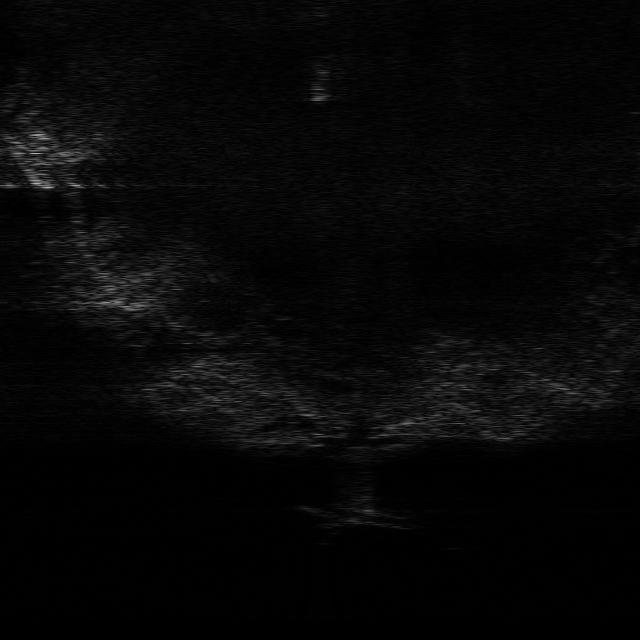plane: (298, 499, 412, 532)
